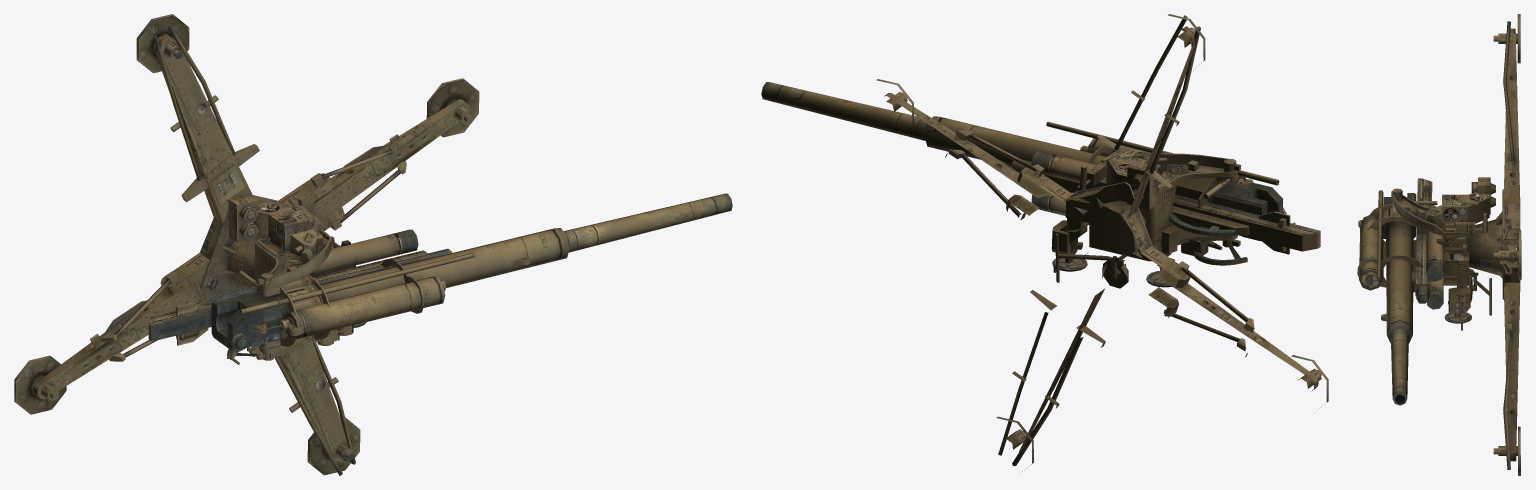
File: german_artillery_flak88.glb
The picture shows the model from 3 angles, left to right: view 1: azimuth 30°, elevation 25°; view 2: azimuth 150°, elevation 25°; view 3: azimuth 270°, elevation 25°; orthographic projection. The views are drawn at different scales.
Size of the model in its own units: 330 by 246 by 94.32.
Materials: 1 (1 with a texture image).
